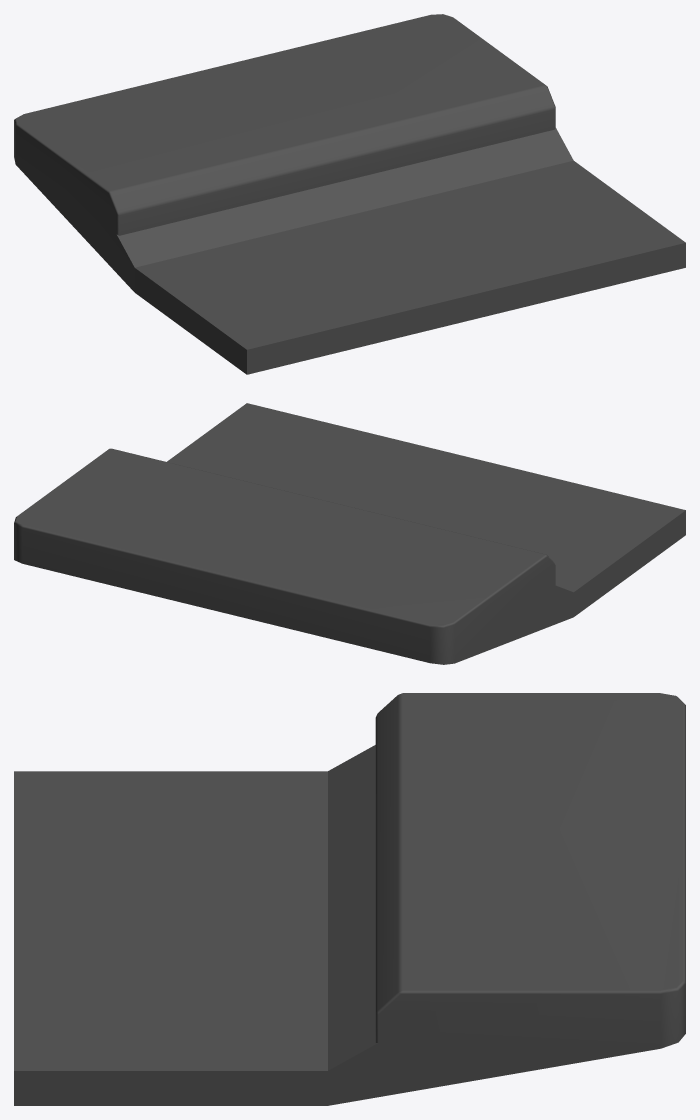
The model's file is sideplatform_001.fbx.
3 renders of one model, top to bottom at view 1: azimuth 30°, elevation 25°; view 2: azimuth 150°, elevation 25°; view 3: azimuth 270°, elevation 25°, orthographic. The views are drawn at different scales.
Parts seen in each view (by area): view 1: sideplatform_001; view 2: sideplatform_001; view 3: sideplatform_001.
Boxes of the visible parts, <box> form: sideplatform_001: <box>14,14,685,374</box>; sideplatform_001: <box>14,403,685,664</box>; sideplatform_001: <box>14,693,685,1105</box>.
Size of the model in its own units: 1230 by 1165 by 219.
